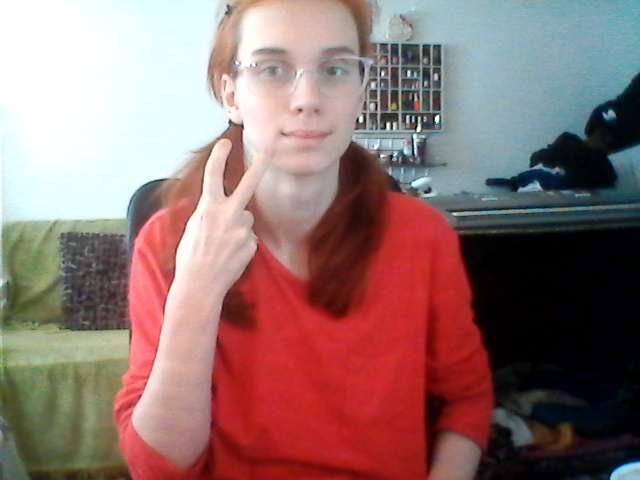usmievat: (148, 126, 379, 283)
